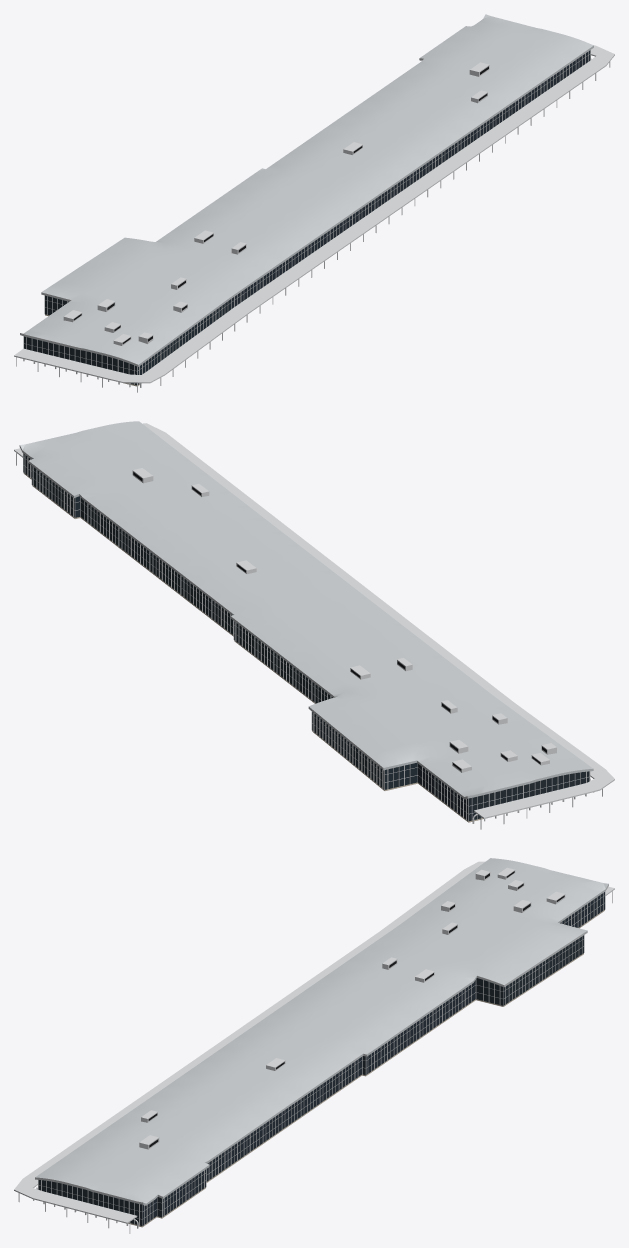
Rendered from OMDB_terminal_1.glb.
The picture shows the model from 3 angles, top to bottom: view 1: azimuth 90°, elevation 25°; view 2: azimuth 150°, elevation 25°; view 3: azimuth 270°, elevation 25°; orthographic projection. The views are drawn at different scales.
Visible parts, largest first — view 1: Terminal1_Building, Terminal1_Structure; view 2: Terminal1_Building, Terminal1_Structure; view 3: Terminal1_Building, Terminal1_Structure.
Boxes of the visible parts, box(x1,y1,x2,y2) form: Terminal1_Building: box(20, 14, 593, 386); Terminal1_Structure: box(14, 45, 614, 392); Terminal1_Building: box(19, 421, 593, 822); Terminal1_Structure: box(14, 423, 614, 829); Terminal1_Building: box(35, 858, 608, 1227); Terminal1_Structure: box(14, 861, 614, 1233).
Size of what is drawn, in the model's own units: 628 by 25.31 by 442.
